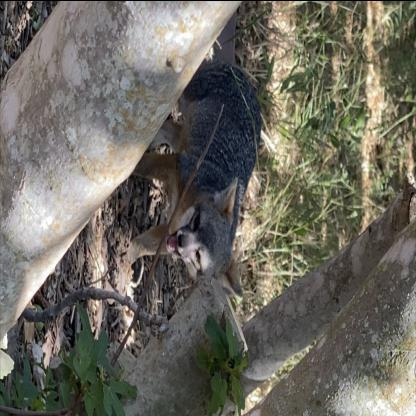zorro: (119, 51, 265, 303)
